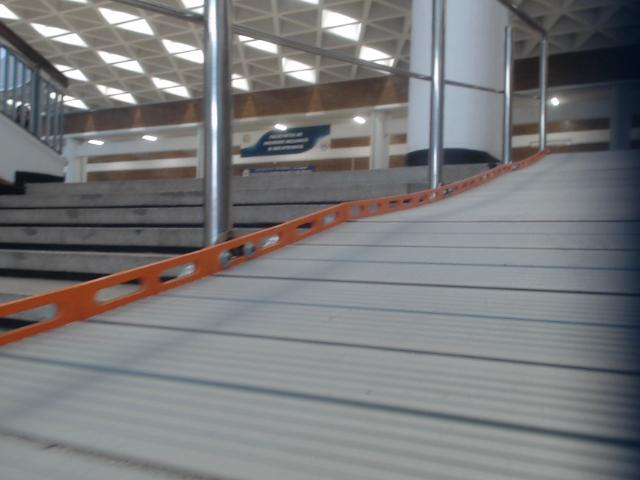rampUp: (0, 152, 639, 479)
ramps-railing: (111, 0, 551, 244)
